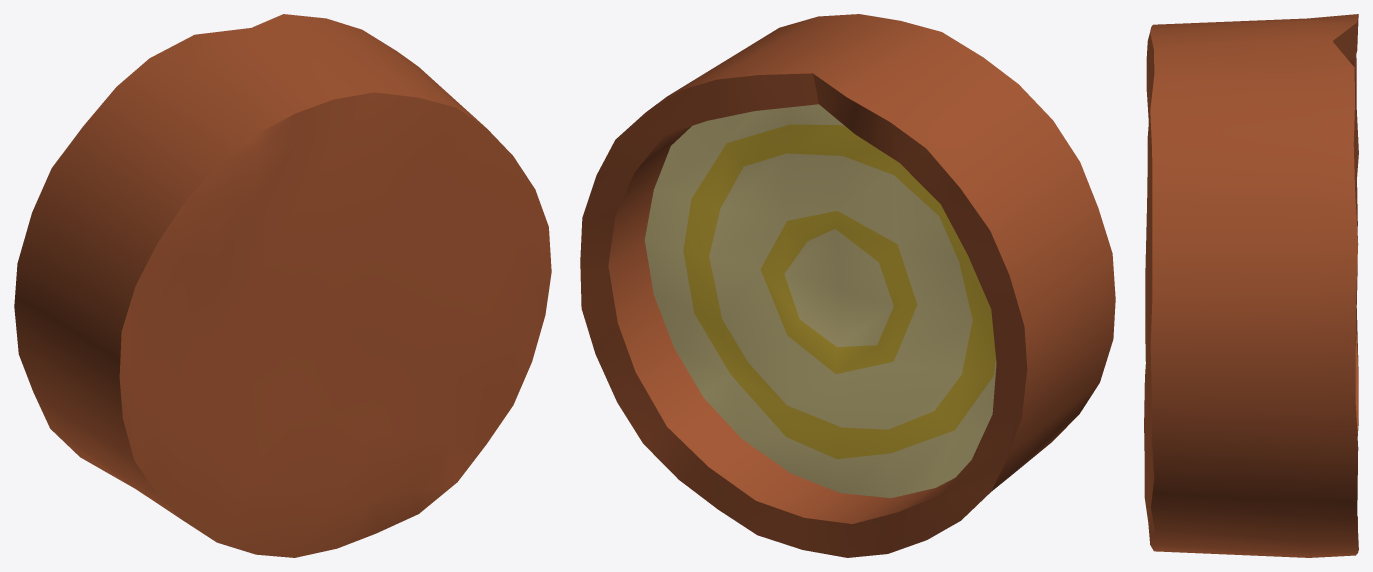
The model's file is Log_Whole.fbx.
3 views of the same model, side by side, from view 1: azimuth 30°, elevation 25°; view 2: azimuth 150°, elevation 25°; view 3: azimuth 270°, elevation 25° (orthographic). The views are drawn at different scales.
Visible parts, largest first — view 1: Log; view 2: Log; view 3: Log.
Part boxes in pixels (x1,y1,x2,y2): Log: [14, 14, 551, 557]; Log: [580, 14, 1115, 557]; Log: [1144, 14, 1358, 557].
Size of the model in its own units: 2.01 by 2.01 by 0.7936.
